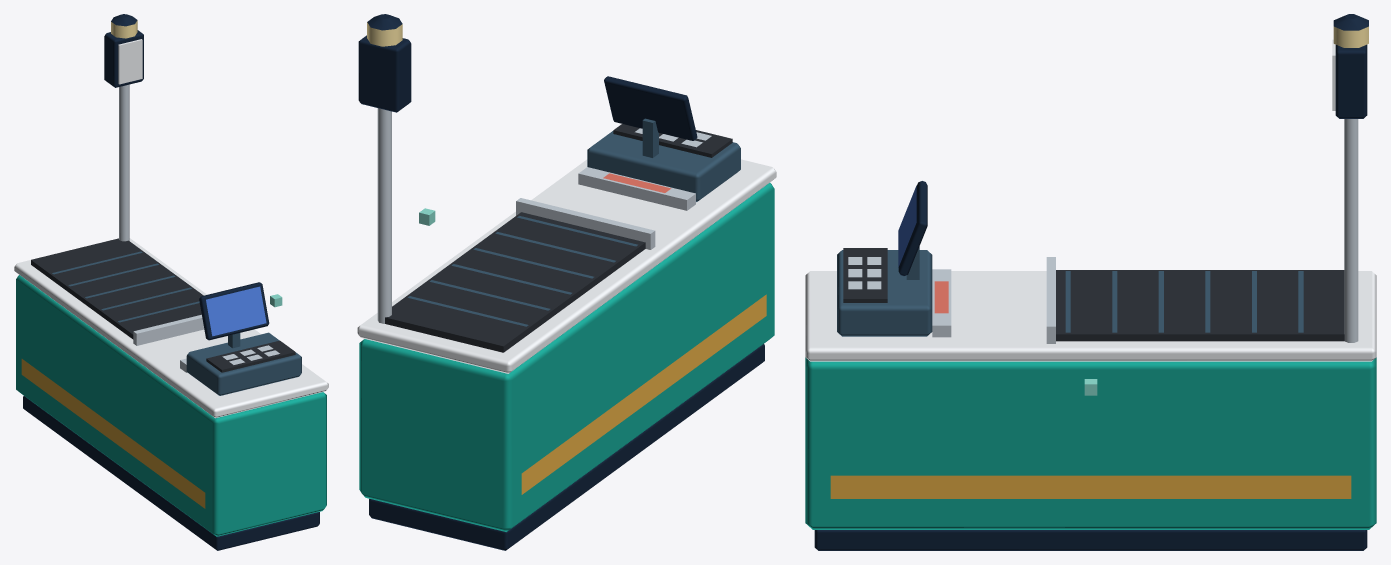
The model's file is CM_Fixture_CheckoutLane.fbx.
3 renders of one model, left to right at view 1: azimuth 30°, elevation 25°; view 2: azimuth 150°, elevation 25°; view 3: azimuth 270°, elevation 25°, orthographic. The views are drawn at different scales.
Visible parts, largest first — view 1: Body, Belt, Register, Screen, LanePost, LanePlate, LaneLamp; view 2: Body, Belt, Register, LanePost, Screen, LaneLamp; view 3: Body, Belt, Register, LanePost, Screen, LaneLamp.
Boxes of the visible parts, bbox=[...] form: Body: bbox=[14, 238, 328, 550]; Belt: bbox=[31, 238, 204, 345]; Register: bbox=[180, 332, 301, 395]; Screen: bbox=[199, 282, 269, 348]; LanePost: bbox=[104, 30, 143, 241]; LanePlate: bbox=[118, 39, 142, 84]; LaneLamp: bbox=[111, 14, 137, 38]; Body: bbox=[357, 159, 776, 550]; Belt: bbox=[385, 198, 655, 352]; Register: bbox=[578, 124, 740, 210]; LanePost: bbox=[358, 35, 411, 323]; Screen: bbox=[604, 76, 697, 157]; LaneLamp: bbox=[367, 14, 402, 46]; Body: bbox=[805, 271, 1376, 550]; Belt: bbox=[1046, 257, 1344, 343]; Register: bbox=[837, 248, 951, 337]; LanePost: bbox=[1335, 44, 1367, 342]; Screen: bbox=[898, 181, 927, 279]; LaneLamp: bbox=[1333, 14, 1368, 47].
Bounding box in the file's own units: 4.3 × 9 × 9.22.
Materials: 1 (1 with a texture image).
